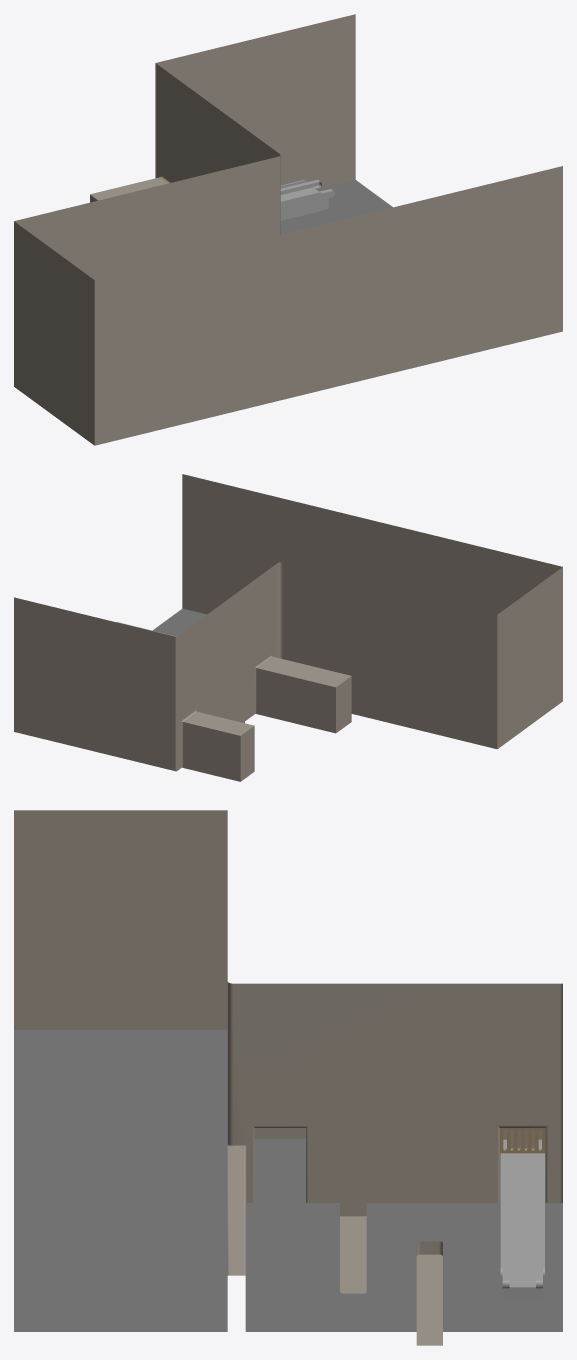
The model's file is walls.fbx.
The picture shows the model from 3 angles, top to bottom: view 1: azimuth 30°, elevation 25°; view 2: azimuth 150°, elevation 25°; view 3: azimuth 270°, elevation 25°; orthographic projection. The views are drawn at different scales.
Visible parts, largest first — view 1: walls; view 2: walls; view 3: walls.
Boxes of the visible parts, x1,y1,x2,y2 form: walls: (14, 14, 562, 445); walls: (14, 474, 562, 781); walls: (14, 810, 562, 1345).
Bounding box in the file's own units: 21.08 × 7.56 × 16.17.
